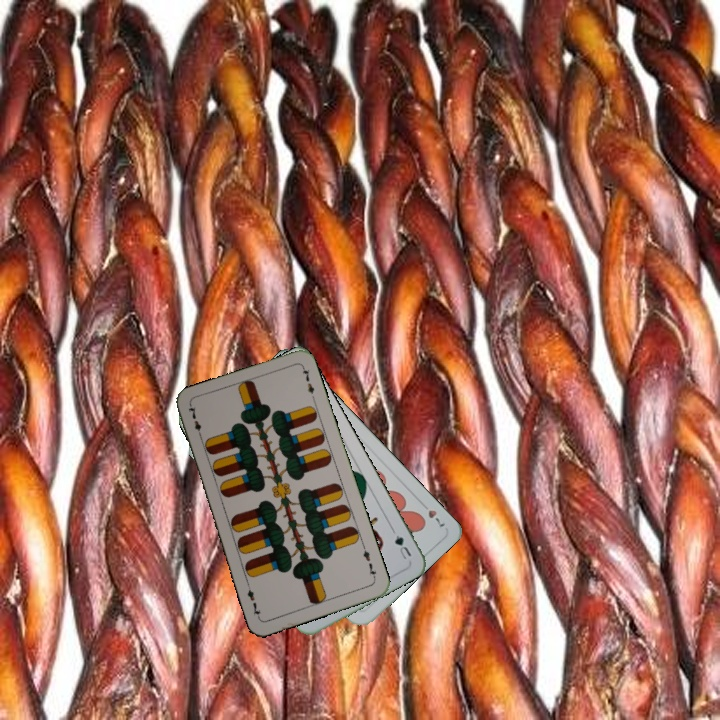E7: (184, 402, 205, 441), (359, 542, 379, 582)
GU: (390, 531, 414, 562)
H7: (416, 499, 448, 530)
